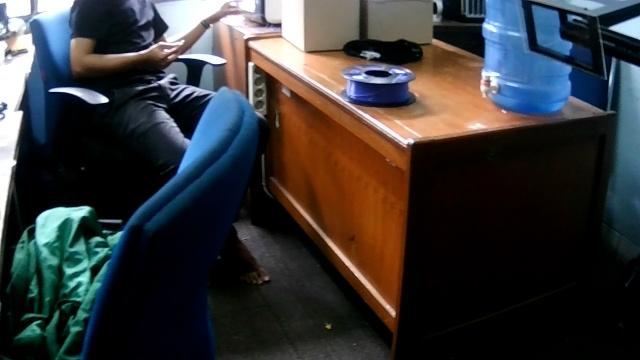Meja: (247, 25, 620, 200)
